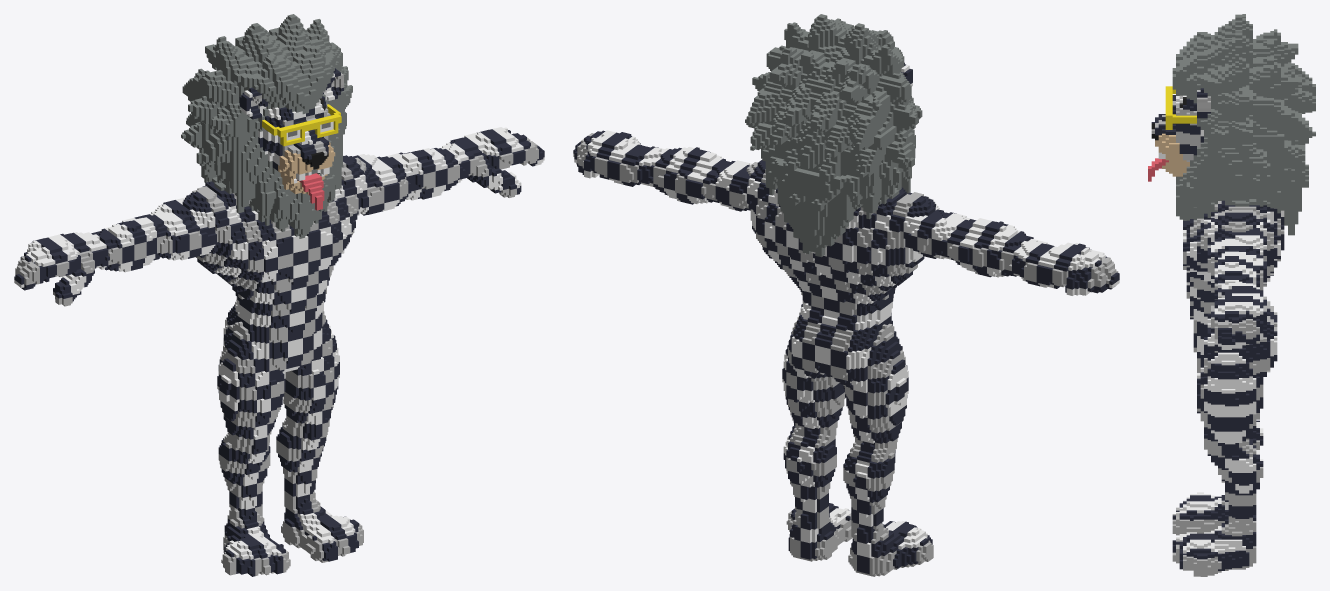
File: 924-7FUJ0OqE.glb
3 views of the same model, side by side, from view 1: azimuth 30°, elevation 25°; view 2: azimuth 150°, elevation 25°; view 3: azimuth 270°, elevation 25° (orthographic). The views are drawn at different scales.
Parts seen in each view (by area): view 1: tongue_out; view 2: tongue_out; view 3: tongue_out.
Part boxes in pixels (<box>): tongue_out: <box>14,14,544,576</box>; tongue_out: <box>573,14,1119,576</box>; tongue_out: <box>1148,14,1315,576</box>.
Bounding box in the file's own units: 17.2 × 16.5 × 4.8.
Materials: 4 (4 with a texture image).
